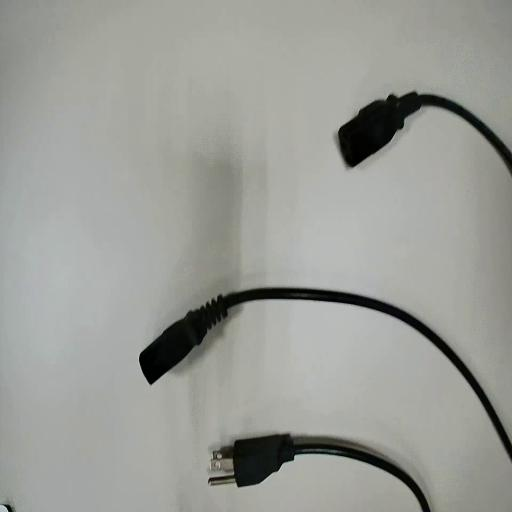wire: (140, 288, 511, 458), (210, 435, 429, 511), (339, 92, 511, 171)
